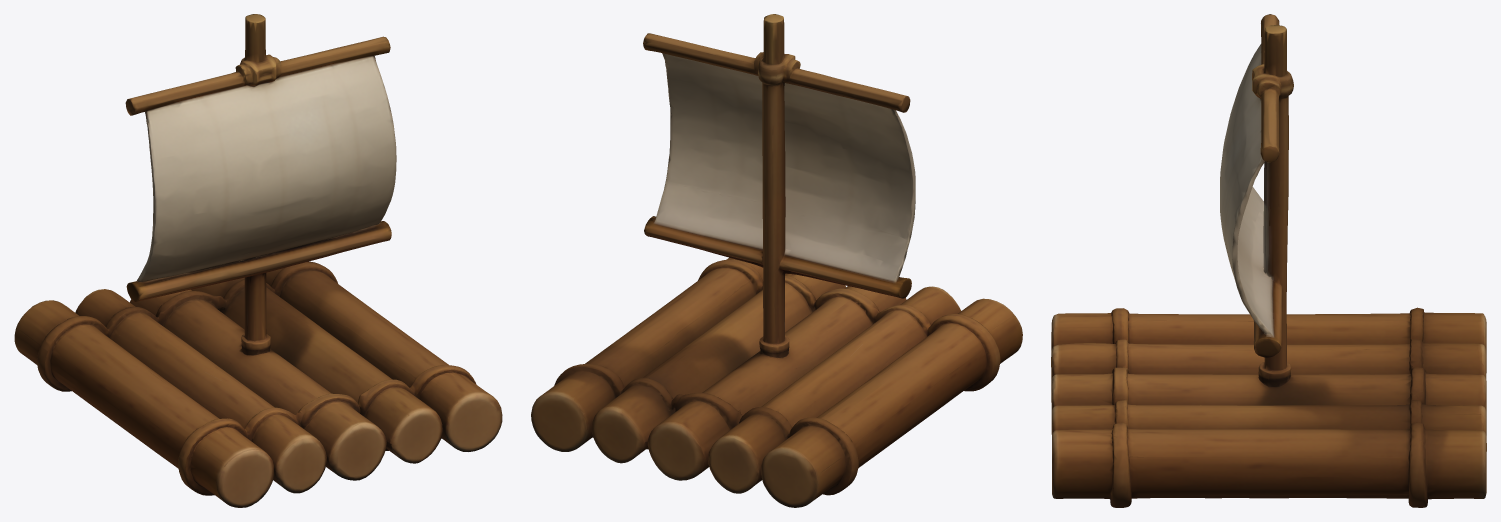
Rendered from raft.glb.
3 views of the same model, side by side, from view 1: azimuth 30°, elevation 25°; view 2: azimuth 150°, elevation 25°; view 3: azimuth 270°, elevation 25° (orthographic). The views are drawn at different scales.
Visible parts, largest first — view 1: geometry_0; view 2: geometry_0; view 3: geometry_0.
Part boxes in pixels (box(x1,y1,x2,y2)): geometry_0: box(14, 14, 502, 507); geometry_0: box(531, 14, 1022, 507); geometry_0: box(1051, 14, 1486, 507).
Size of the model in its own units: 0.7936 by 0.9995 by 0.9496.
Materials: 1 (1 with a texture image).
